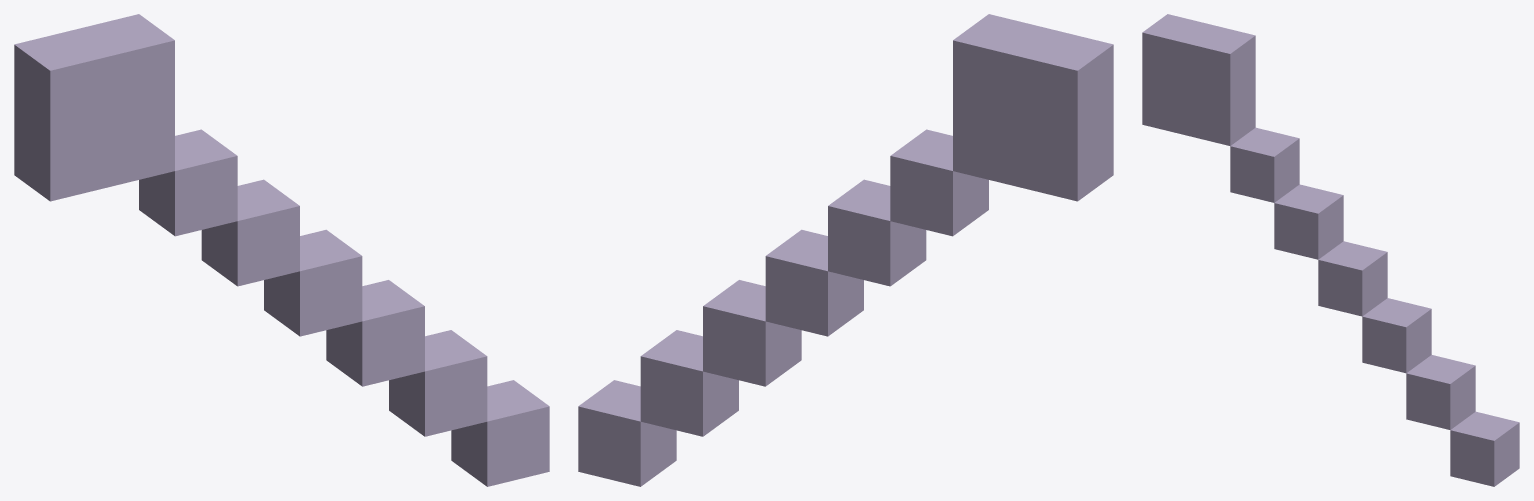
The model's file is Spear-Grey.vox.obj.
3 views of the same model, side by side, from view 1: azimuth 30°, elevation 25°; view 2: azimuth 150°, elevation 25°; view 3: azimuth 330°, elevation 25° (orthographic). The views are drawn at different scales.
Bounding box in the file's own units: 0.8 × 0.8 × 0.1.
Materials: 1 (1 with a texture image).
